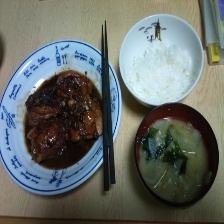rice: (122, 39, 198, 103)
